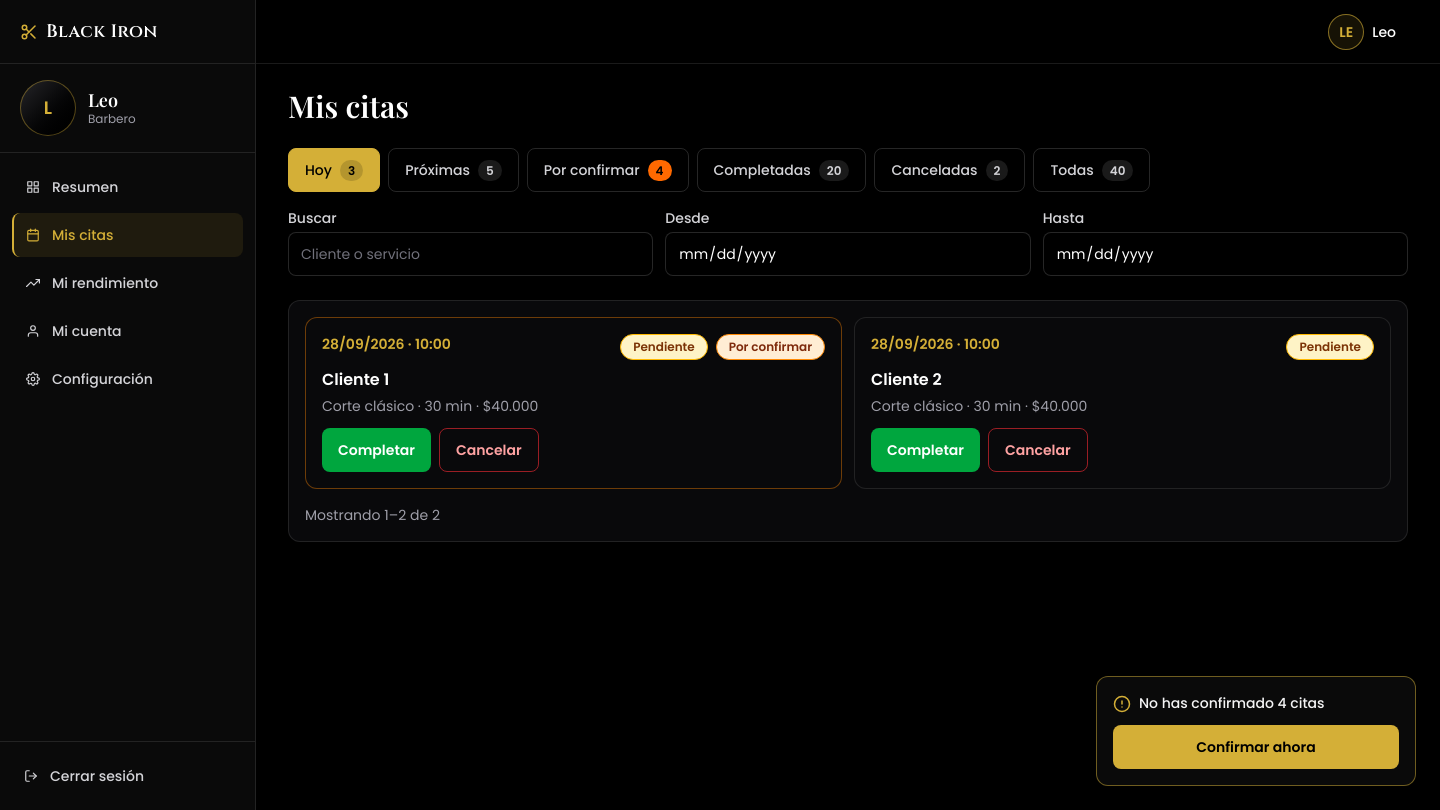
/panel/citas: completar y cancelar › si el back-end rechaza completar (CITA_FUTURA) el mensaje se ve en pantalla y no se recarga
Expected: the text "Mostrando 1–2 de 2" is shown, [305,505,440,525]
Click the button with aria-label "Completar la cita de Cliente 2": (926, 450) [871,428,980,472]
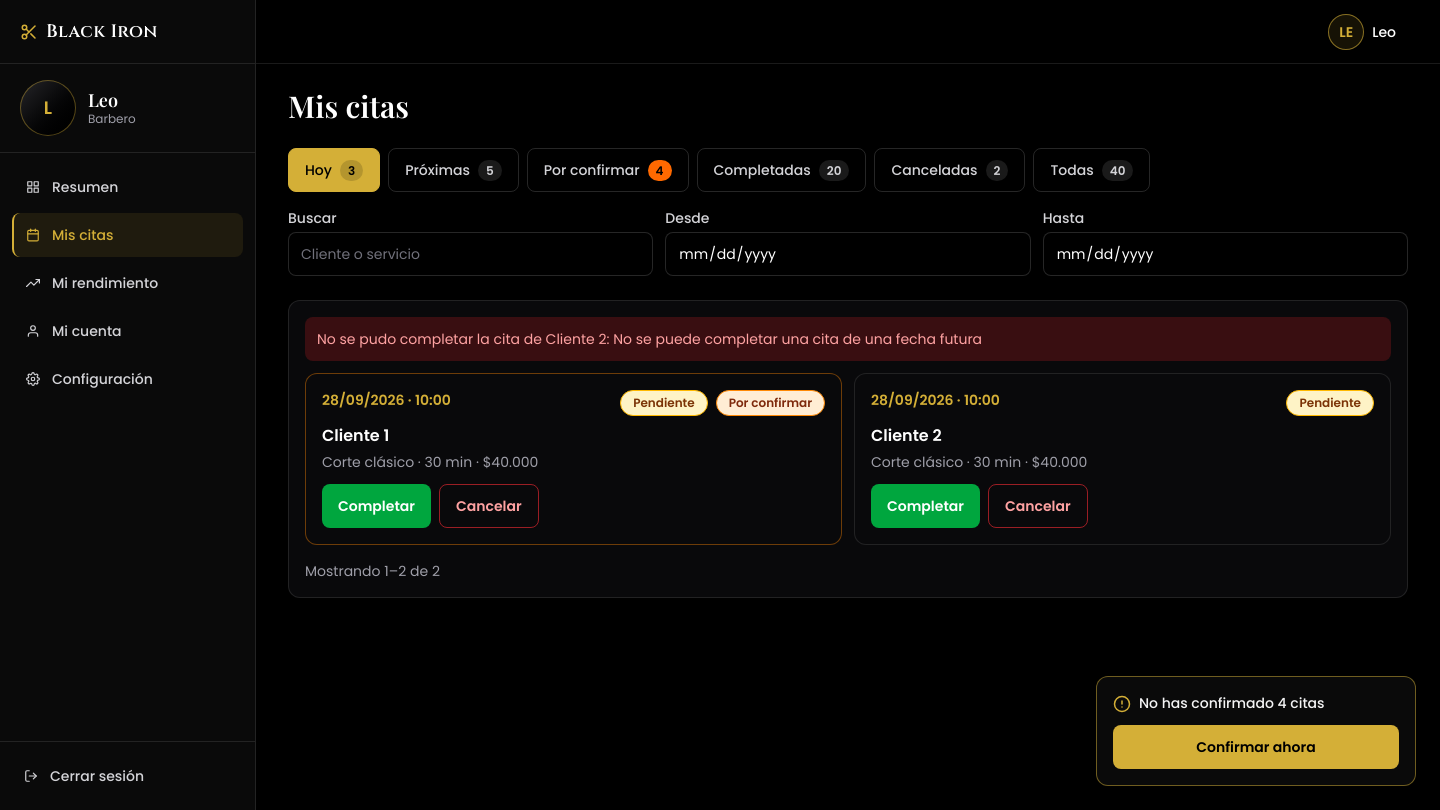
Now the 1st message shows "No se puede completar una cita de una fecha futura", box [317,329,982,349]
